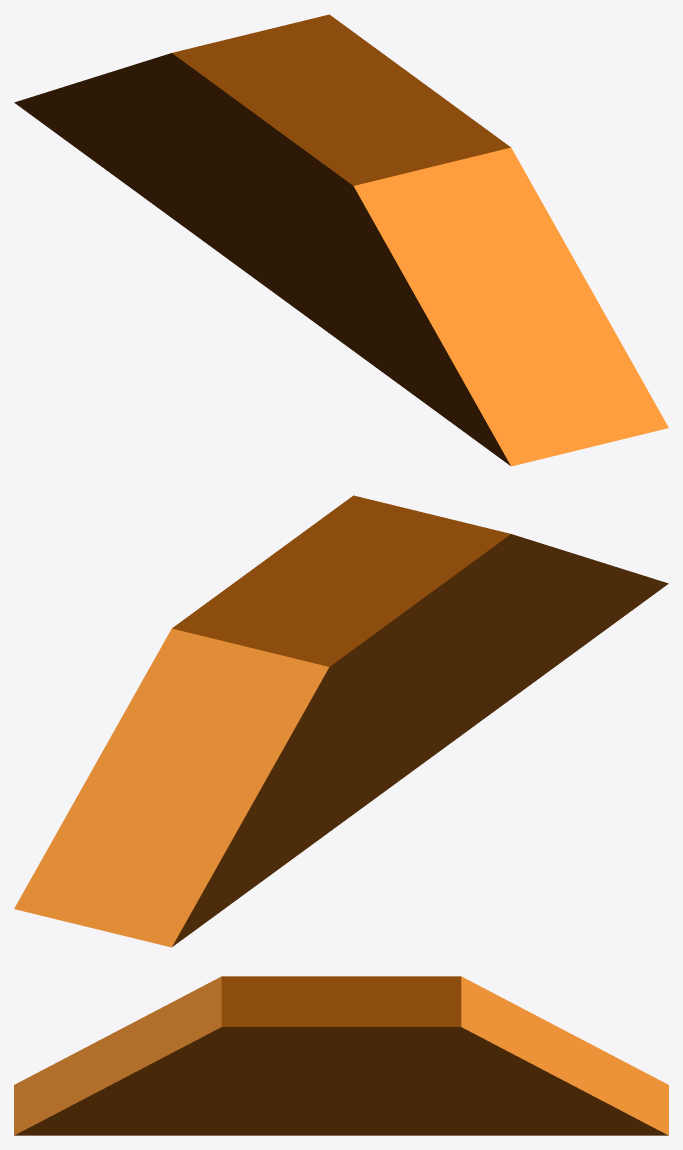
The model's file is 30slope1.dae.
3 renders of one model, top to bottom at view 1: azimuth 30°, elevation 25°; view 2: azimuth 150°, elevation 25°; view 3: azimuth 270°, elevation 25°, orthographic. The views are drawn at different scales.
Parts seen in each view (by area): view 1: SketchUp (×3); view 2: SketchUp (×3); view 3: SketchUp (×4).
Boxes of the visible parts, left/top/right/bottom form: SketchUp (×3): left=14, top=14, right=668, bottom=466; SketchUp (×3): left=14, top=495, right=668, bottom=947; SketchUp (×4): left=14, top=976, right=668, bottom=1135.
Bounding box in the file's own units: 78.74 × 430 × 78.74.
